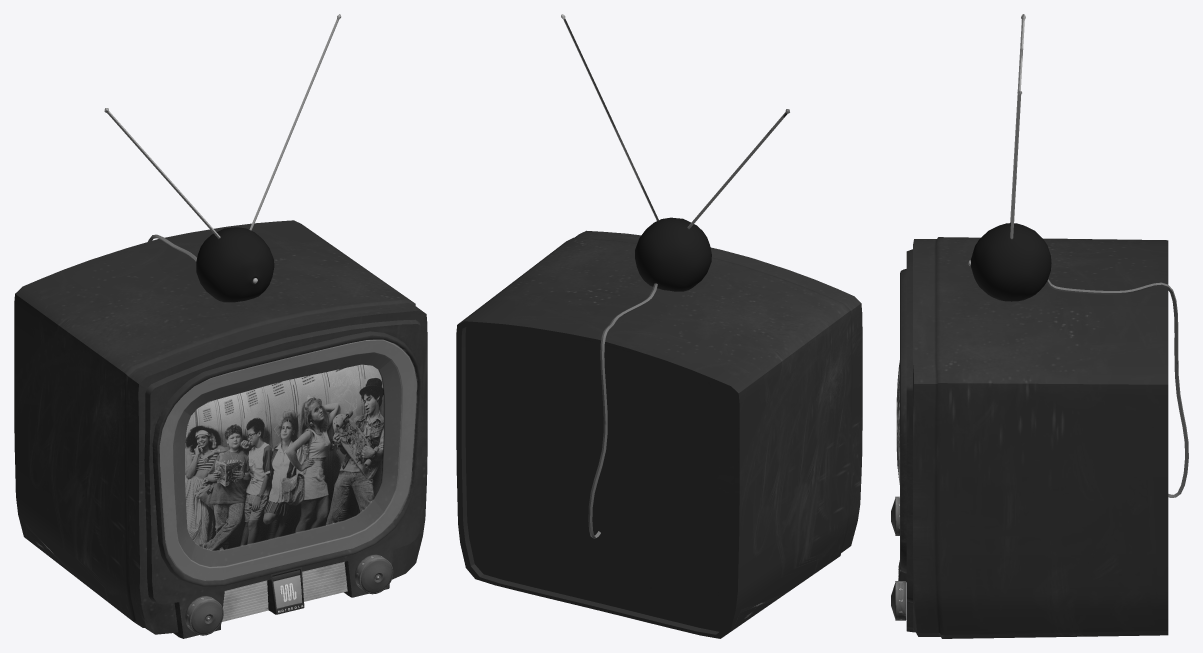
The picture shows the model from 3 angles, left to right: view 1: azimuth 30°, elevation 25°; view 2: azimuth 150°, elevation 25°; view 3: azimuth 270°, elevation 25°; orthographic projection. The views are drawn at different scales.
Visible parts, largest first — view 1: TV_Base, TV_Screen, TV_Antennae, TV_Dial_Static (×2); view 2: TV_Base, TV_Antennae; view 3: TV_Base, TV_Antennae, TV_Dial_Rotate.
Part boxes in pixels (left/top/right/bottom): TV_Base: left=14, top=220, right=427, bottom=638; TV_Screen: left=185, top=364, right=384, bottom=550; TV_Antennae: left=104, top=14, right=341, bottom=302; TV_Dial_Static (×2): left=191, top=559, right=392, bottom=634; TV_Base: left=456, top=230, right=862, bottom=638; TV_Antennae: left=561, top=14, right=789, bottom=538; TV_Base: left=898, top=237, right=1168, bottom=638; TV_Antennae: left=968, top=14, right=1188, bottom=497; TV_Dial_Rotate: left=895, top=581, right=906, bottom=620.
Bounding box in the file's own units: 8.15 × 14.26 × 7.08.
